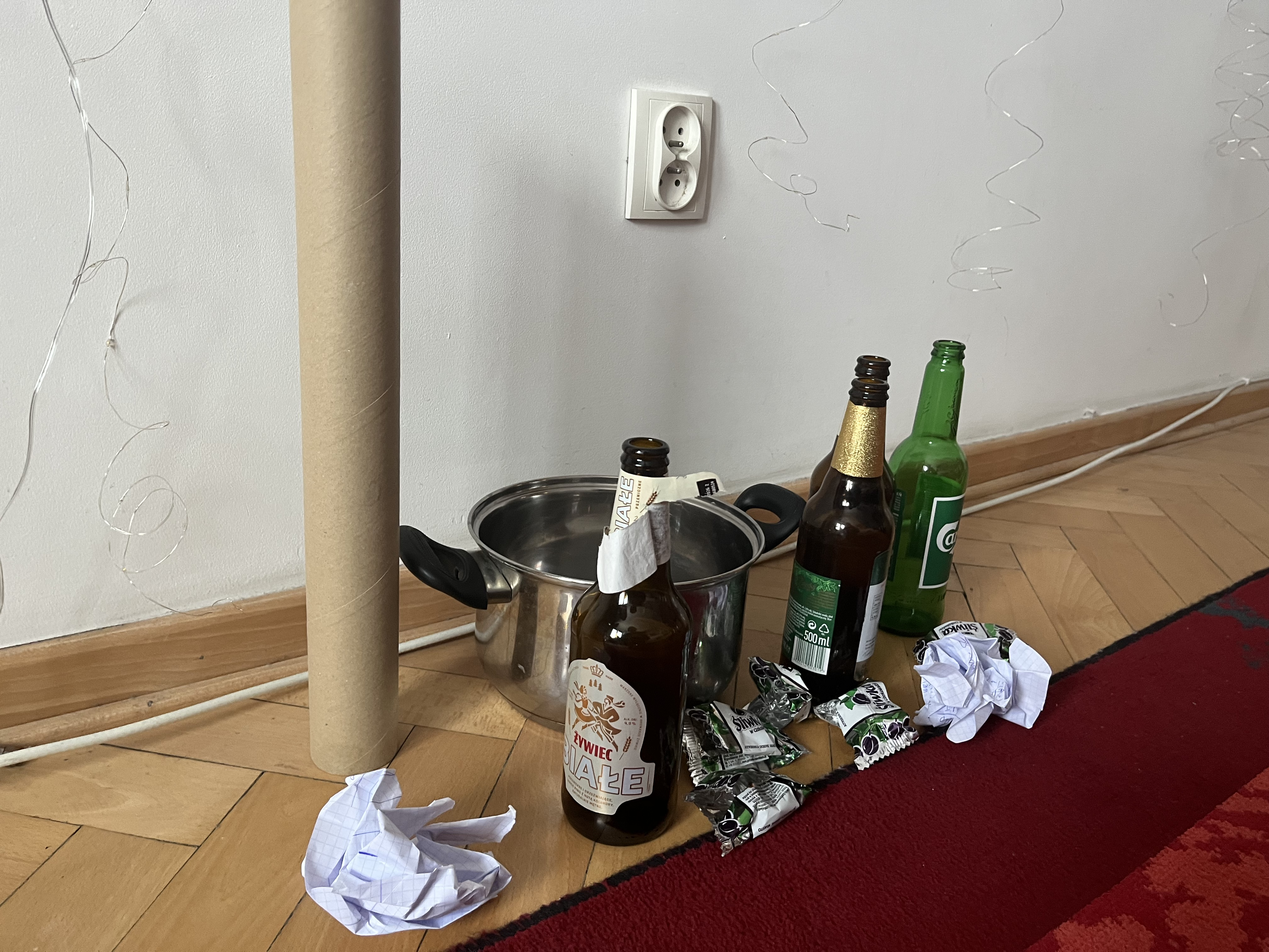CARDBOARD: (281, 0, 417, 773)
GLASS: (563, 429, 694, 847), (776, 347, 914, 685), (871, 344, 992, 632)
METAL: (453, 476, 759, 718)
PAPER: (279, 760, 519, 939), (911, 633, 1028, 752)
PLASTIC: (685, 775, 817, 847), (819, 680, 921, 769), (685, 709, 804, 764), (745, 659, 807, 734)
